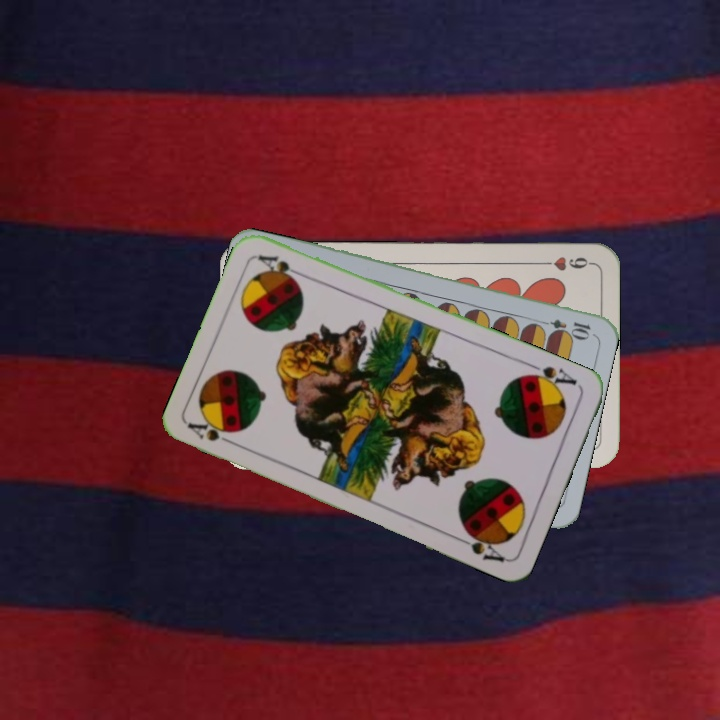E10: (534, 314, 593, 339)
H9: (535, 253, 594, 274)
SA: (521, 359, 580, 394), (184, 416, 242, 449)
